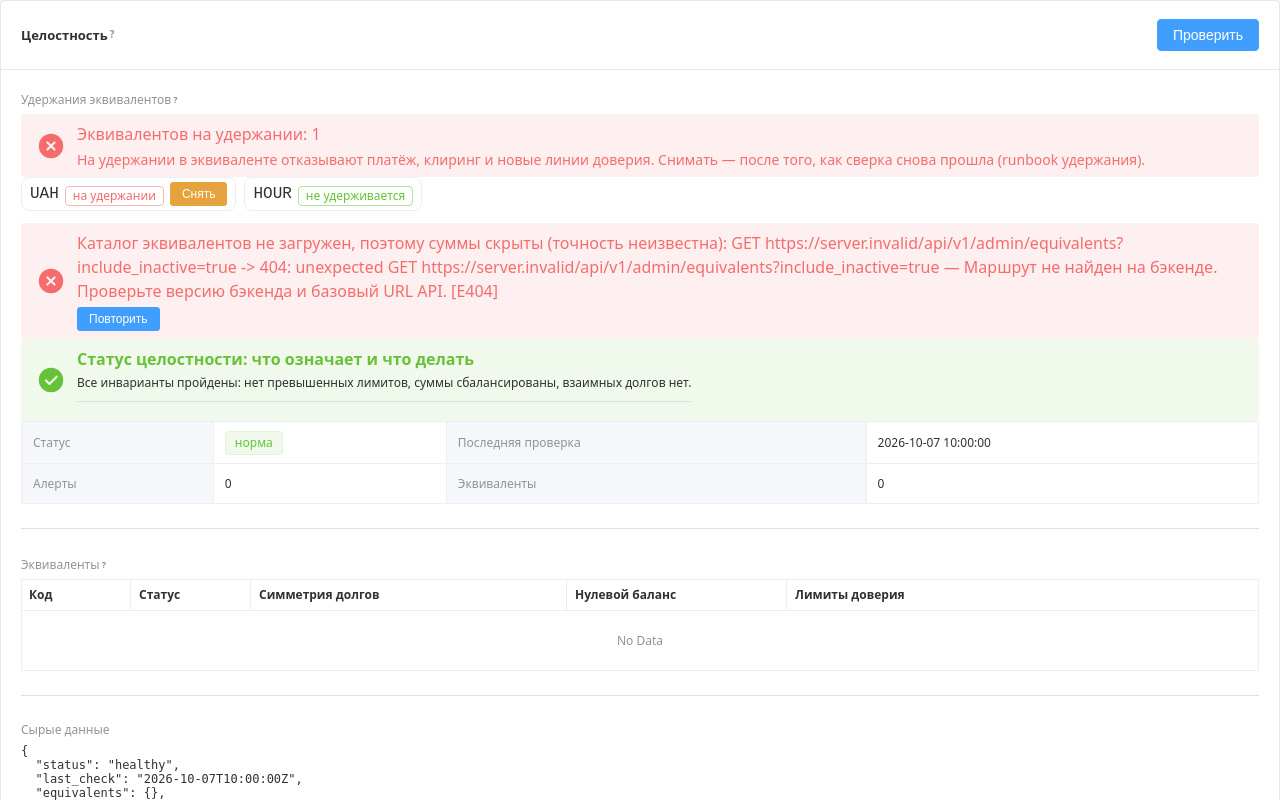
Test: Integrity screen: after a clear the status is read again (033 B, item 1) › shows a failed status read and a failed holds read apart, each with its own ref
The width and height of the screenshot is (1280, 800).
Click the button "Снять" at (199, 194), box [170,182,227,206]
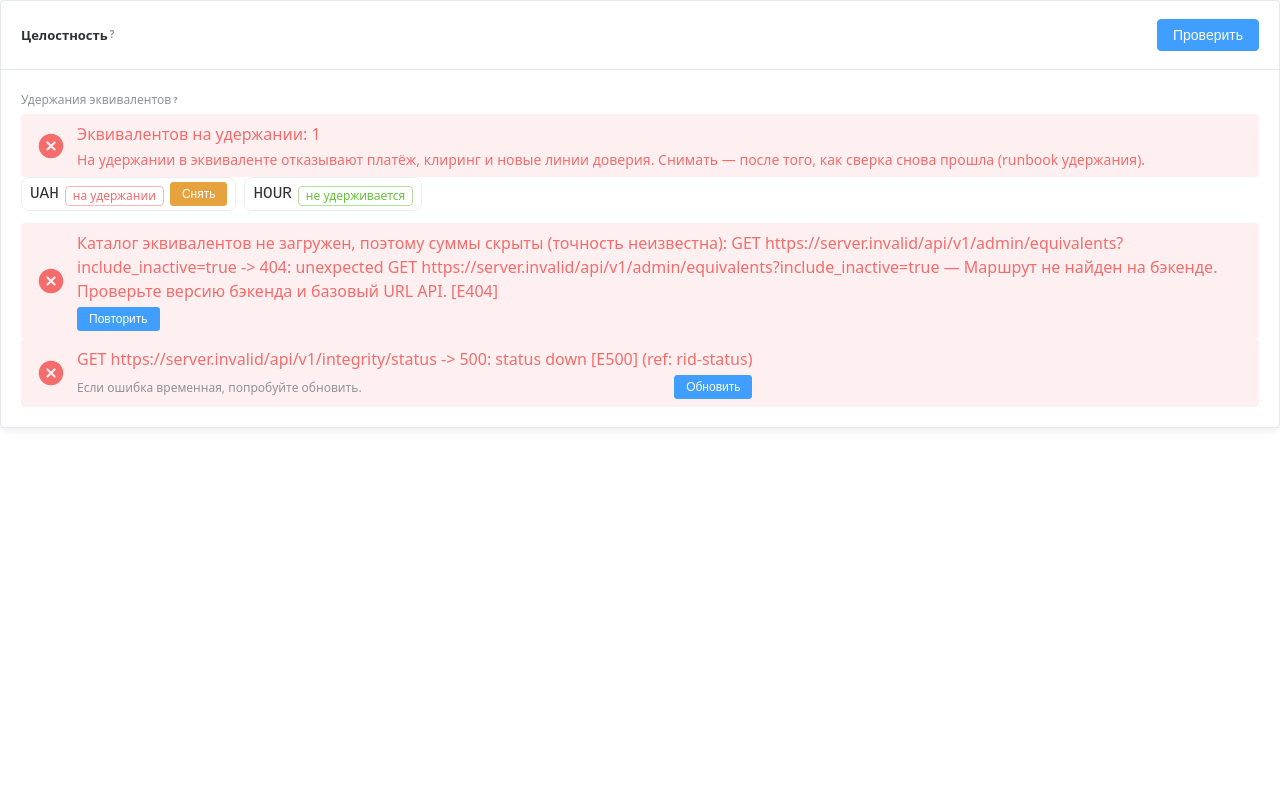
expect the text "rid-status" is shown: met, box [77,348,752,370]
Click the button "Снять" at (199, 194), box [170,182,227,206]
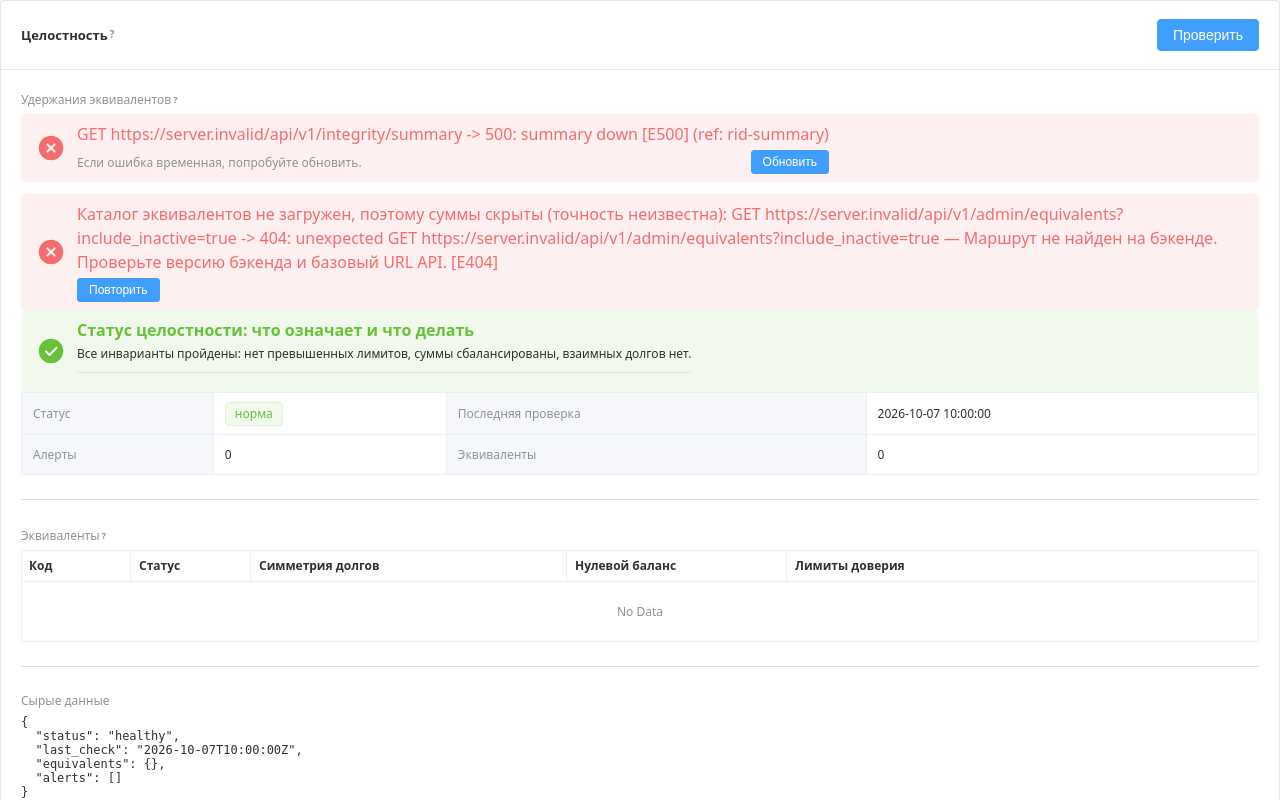
expect the element with test id "integrity-holds" shows "rid-summary": met, box [77,123,829,145]
expect the text "rid-status" is gone: met
